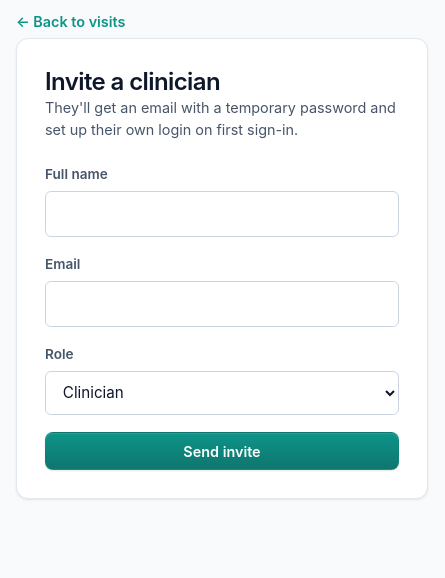
Scenario: InviteClinician › submits the exact expected payload
Type "Bob Smith" into the field labelled "Full name" at coordinates (222, 214), box [45,191,399,237]
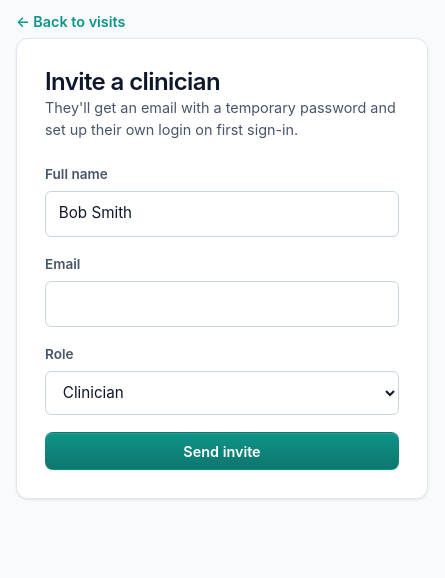
Type "bob@x.test" into the field labelled "Email" at coordinates (222, 304), box [45,281,399,326]
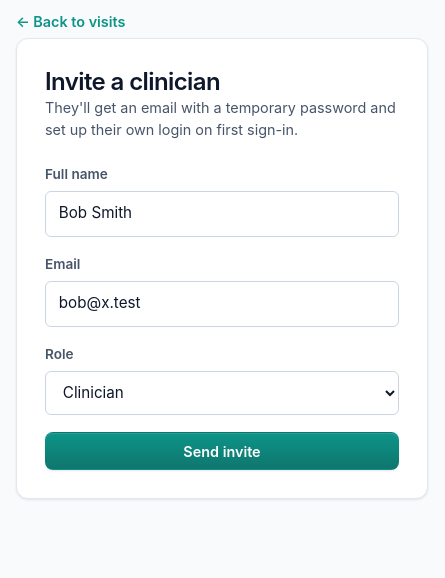
Click the button "Send invite" at coordinates (222, 451), box [45,432,399,470]
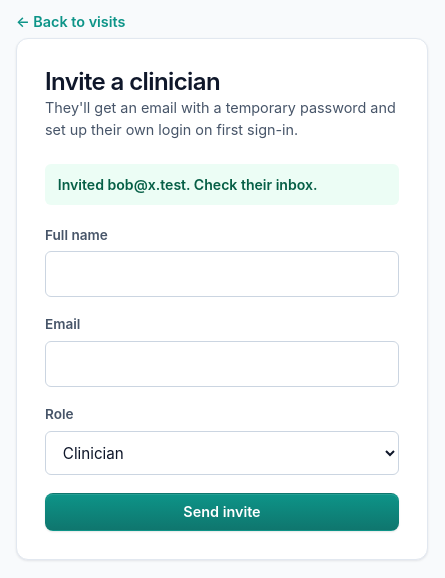
Now the text "Invited bob@x.test. Check their inbox." is shown, box [45,164,399,204]
